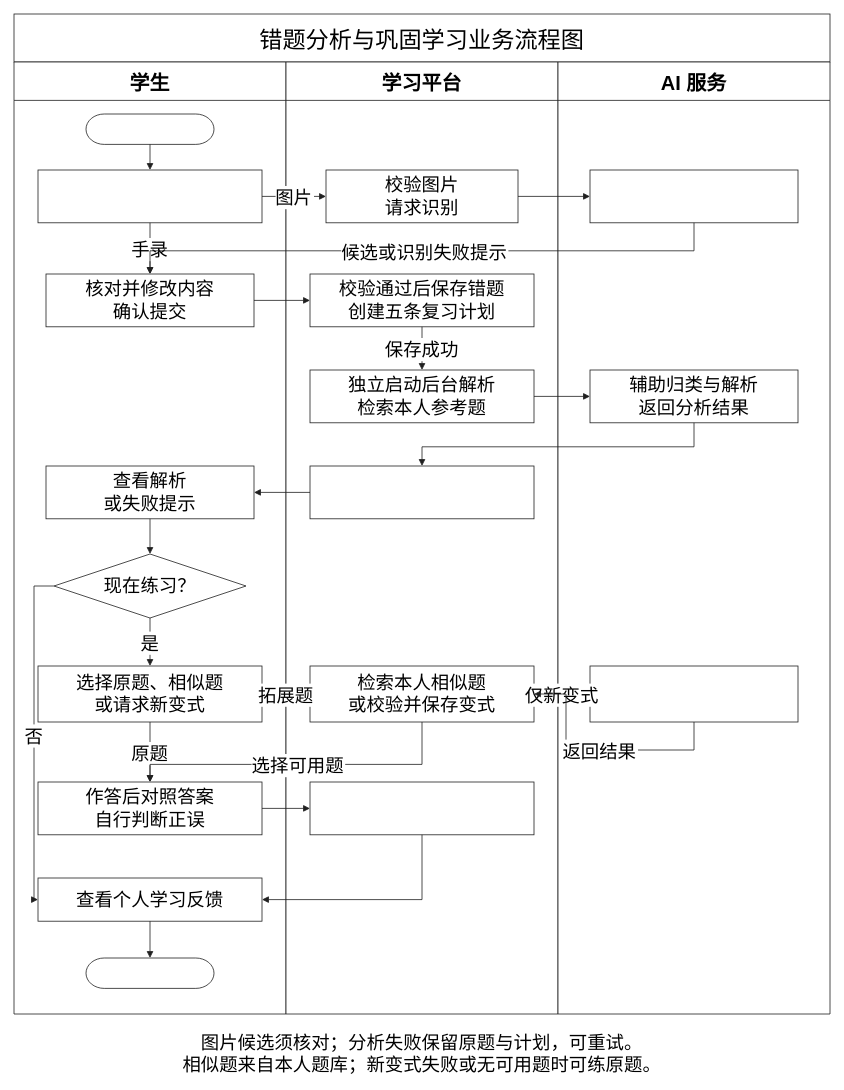
Image size: 844x1090. Some labels were removed from this diagram. Here are the shapes that lost their labels. From the top down, the centre of each, then its label:
(149,128): 开始
(149,196): 录入错题 手工输入或上传单题图
(693,196): 识别题干、科目等 返回候选信息
(421,492): 校验并保存分析结果 失败时记录失败状态
(693,693): 按需生成 三道变式题
(421,808): 保存练习记录 更新原题掌握度
(149,972): 结束
